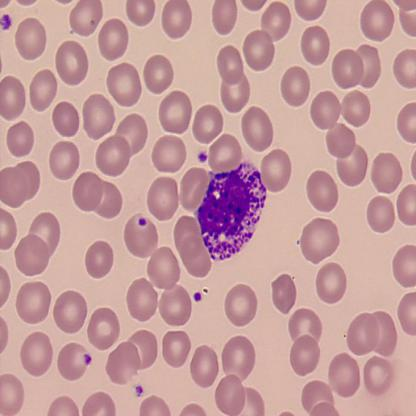Basophil: (192, 159, 268, 262)
